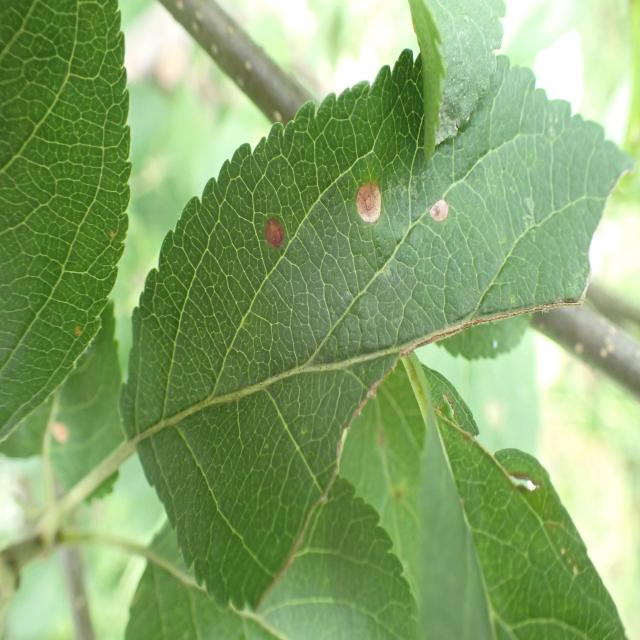Black Rot: (343, 164, 408, 244), (257, 188, 293, 260), (424, 188, 466, 238)
